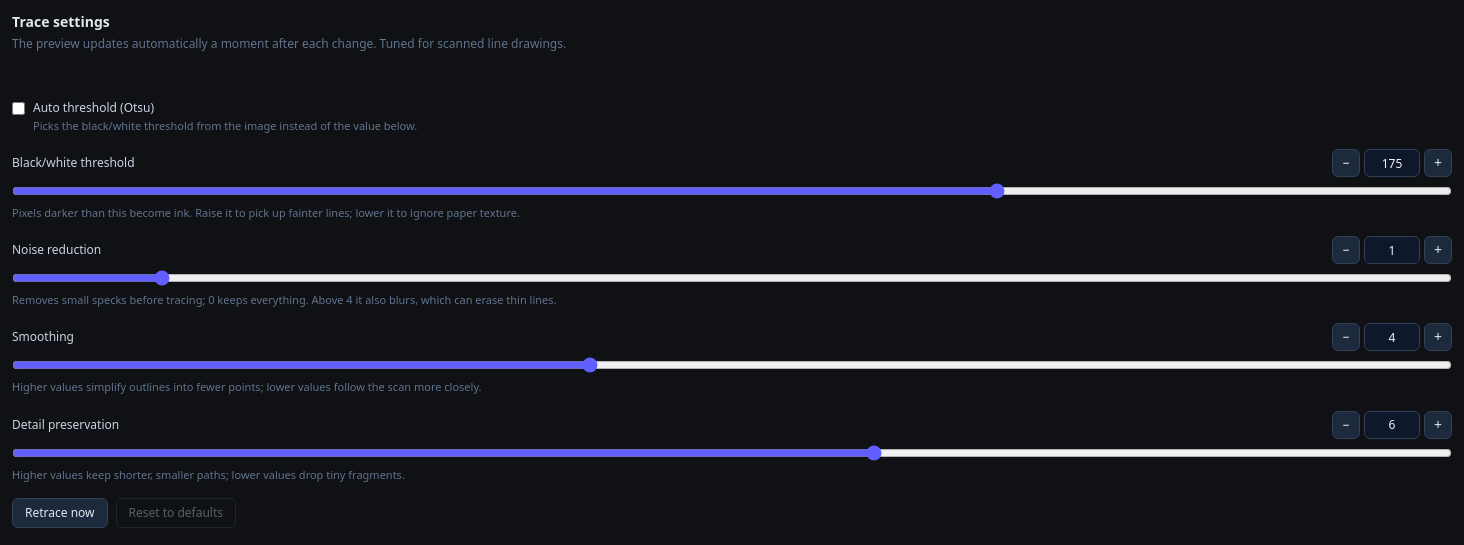
Test: TracingControls › restores the actual application defaults with Reset to defaults, which is only enabled after a change
The width and height of the screenshot is (1464, 545).
Expected: the button "Reset to defaults" is disabled, [116,498,236,528]
Click the button named "Increase Smoothing".
click(1438, 337)  # box [1424,323,1452,351]
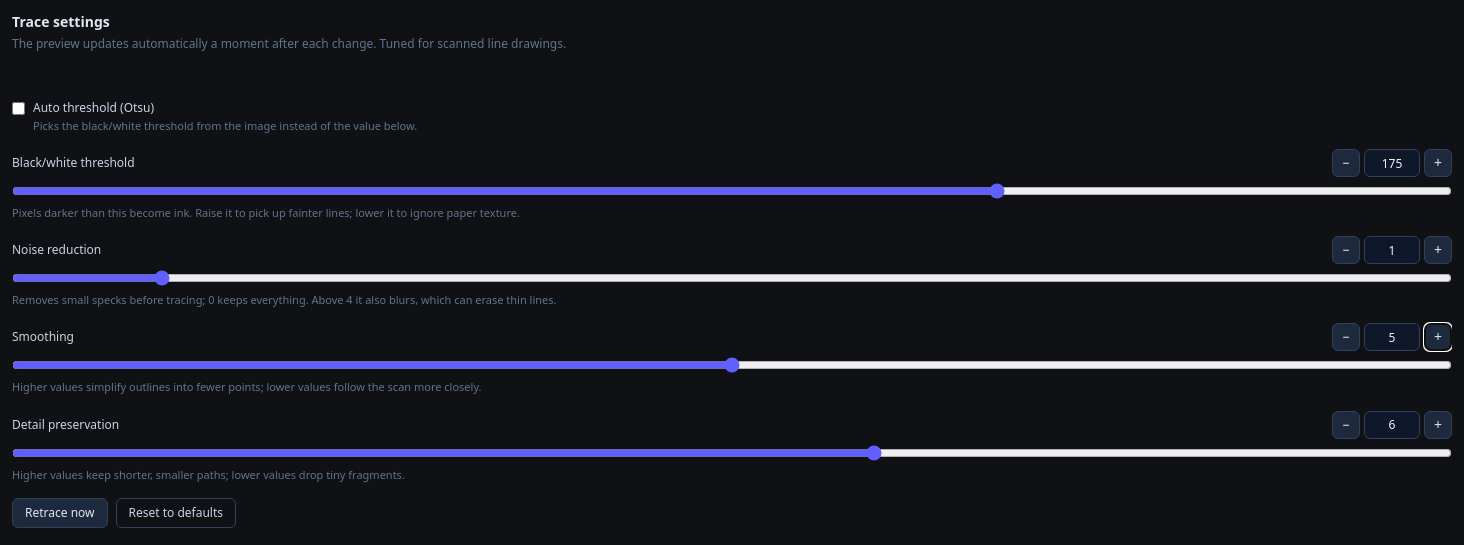
Click the button named "Increase Black/white threshold".
click(1438, 163)  # box [1424,149,1452,177]
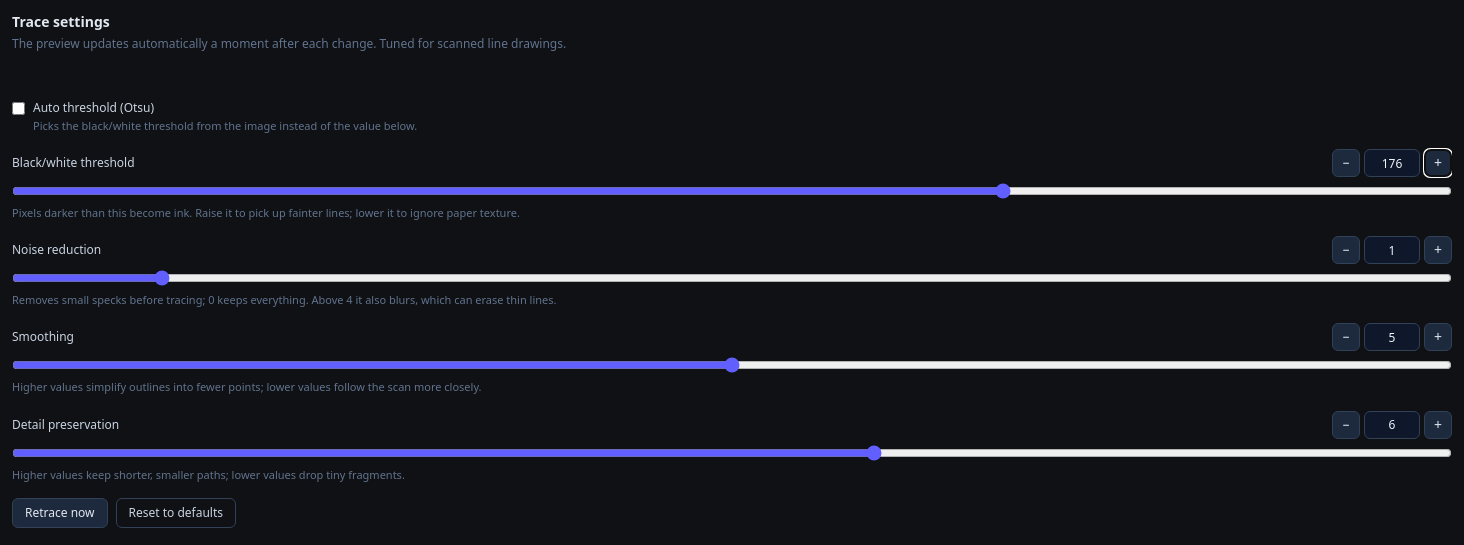
Click the checkbox labelled "Auto threshold".
click(18, 108)  # box [12,102,25,115]
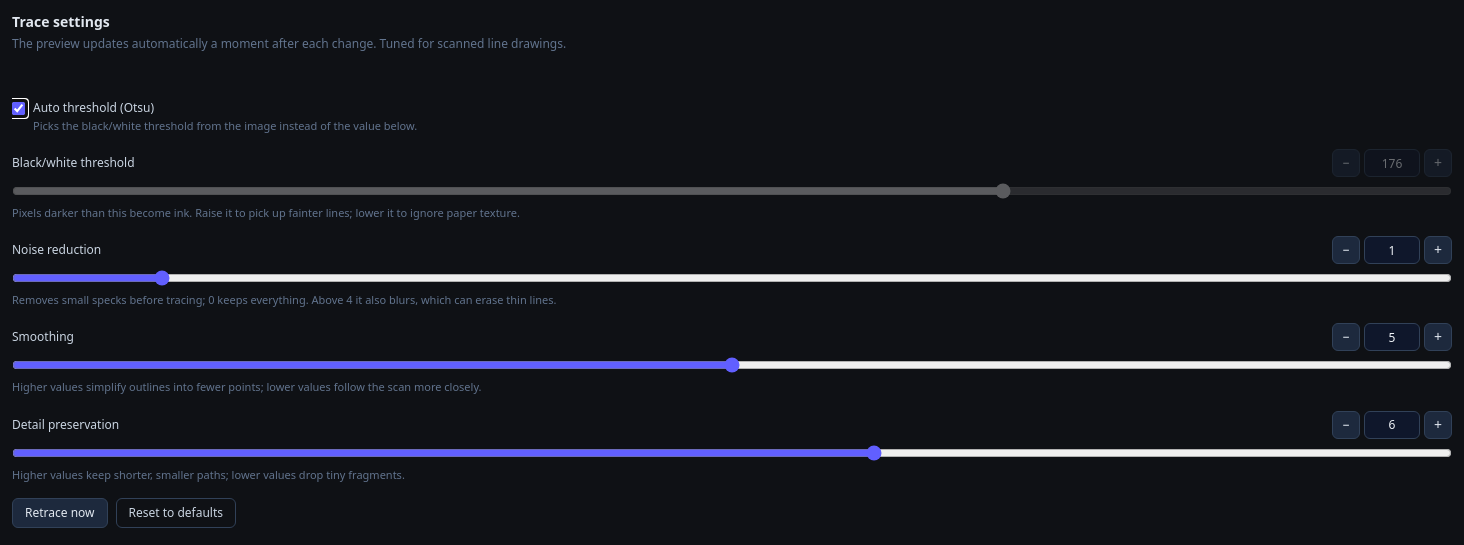
Now the button "Reset to defaults" is enabled
Click the button "Reset to defaults".
click(176, 513)  # box [116,498,236,528]
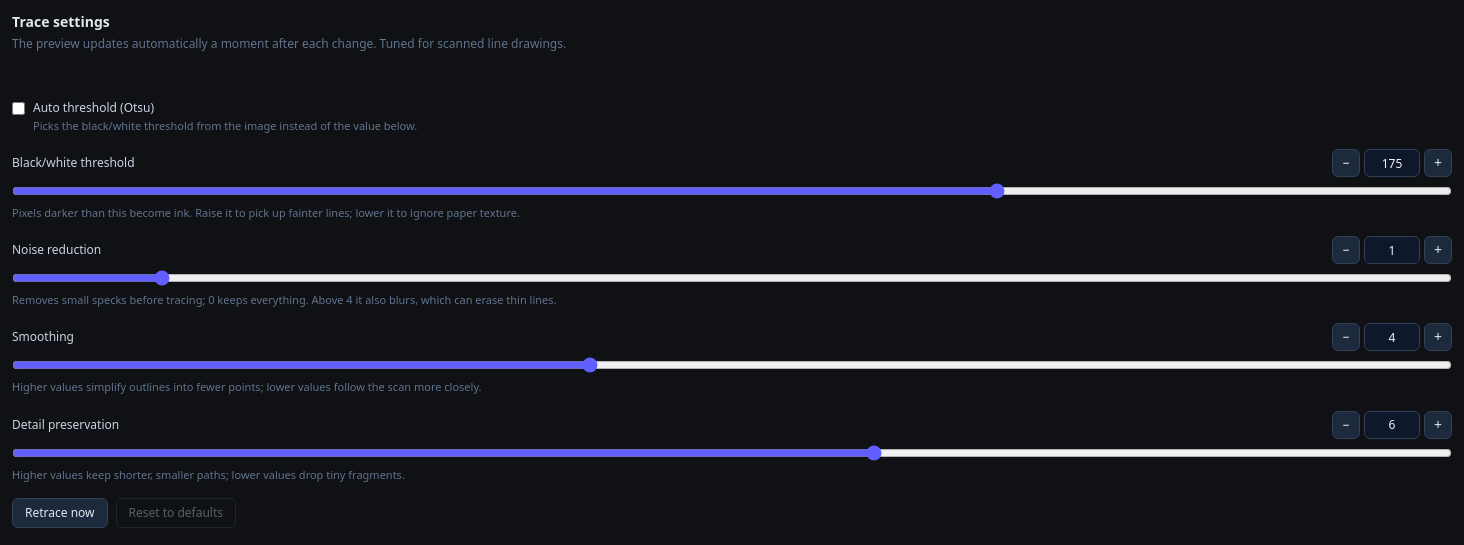
Now the checkbox labelled "Auto threshold" is not checked, box [12,102,25,115]
Now the field labelled "Black/white threshold" holds "175", box [1364,149,1420,177]
Now the field labelled "Smoothing" holds "4", box [1364,323,1420,351]
